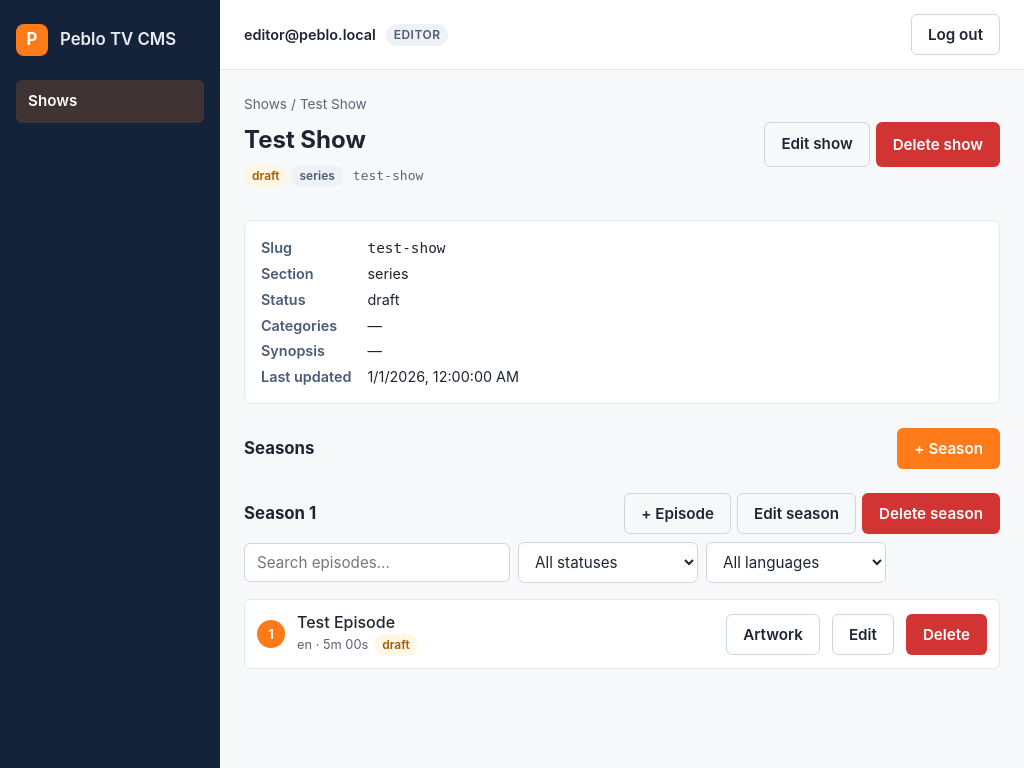
Test case: EpisodeArtworkPanel › shows existing artwork as preview
Click the button "Artwork": (773, 634) left=726, top=614, right=820, bottom=655
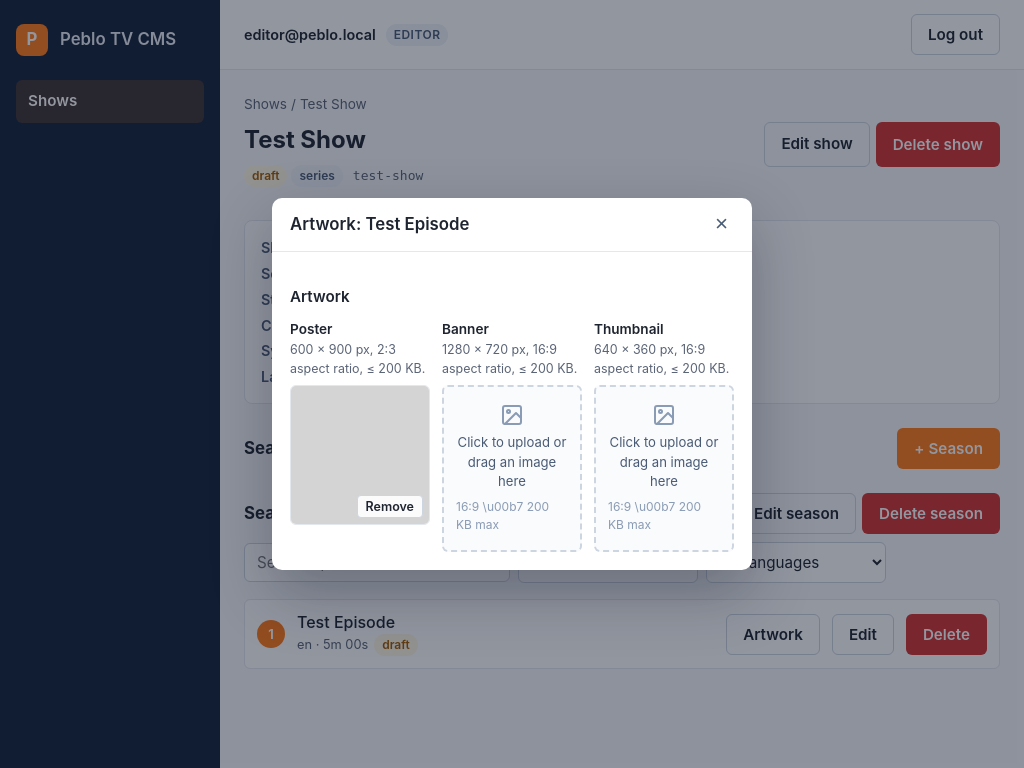
Check: the button with test id "artwork-delete-poster" is shown, box left=357, top=495, right=423, bottom=518
Check: the button with test id "artwork-drop-banner" is shown, box left=442, top=385, right=582, bottom=552
Check: the button with test id "artwork-drop-thumbnail" is shown, box left=594, top=385, right=734, bottom=552
